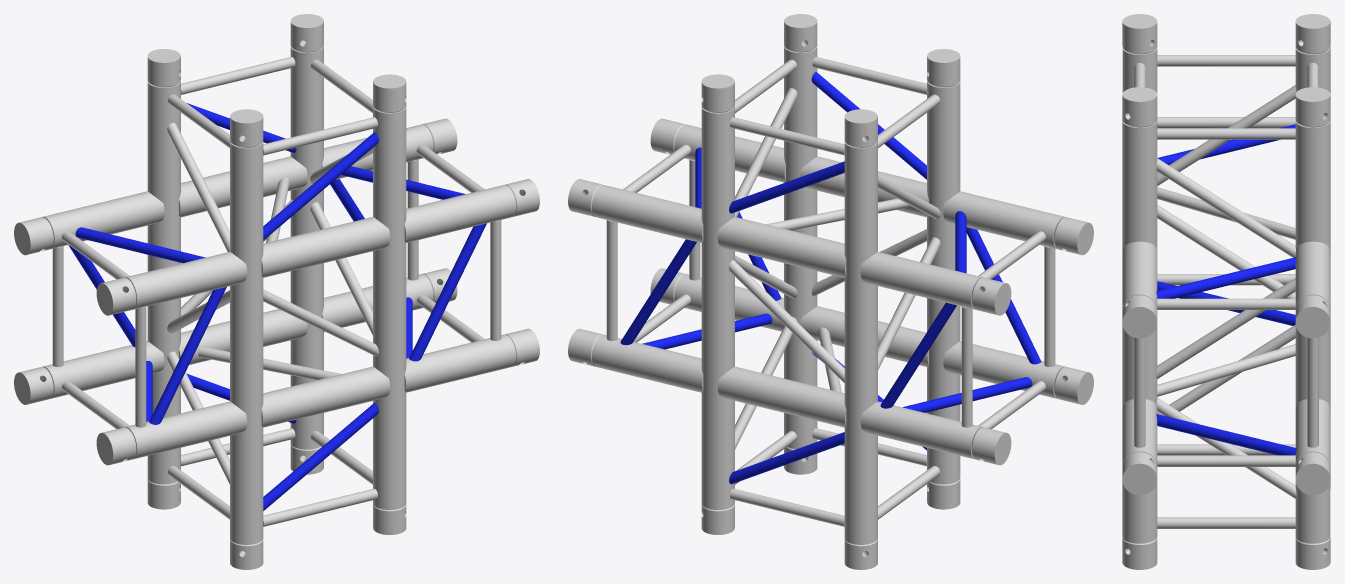
The picture shows the model from 3 angles, left to right: view 1: azimuth 30°, elevation 25°; view 2: azimuth 150°, elevation 25°; view 3: azimuth 270°, elevation 25°; orthographic projection. The views are drawn at different scales.
Parts seen in each view (by area): view 1: 260028010; view 2: 260028010; view 3: 260028010.
Boxes of the visible parts, <box> form: 260028010: <box>14,14,539,569</box>; 260028010: <box>568,14,1093,569</box>; 260028010: <box>1122,14,1330,569</box>.
Bounding box in the file's own units: 0.713 × 0.713 × 0.2873.
